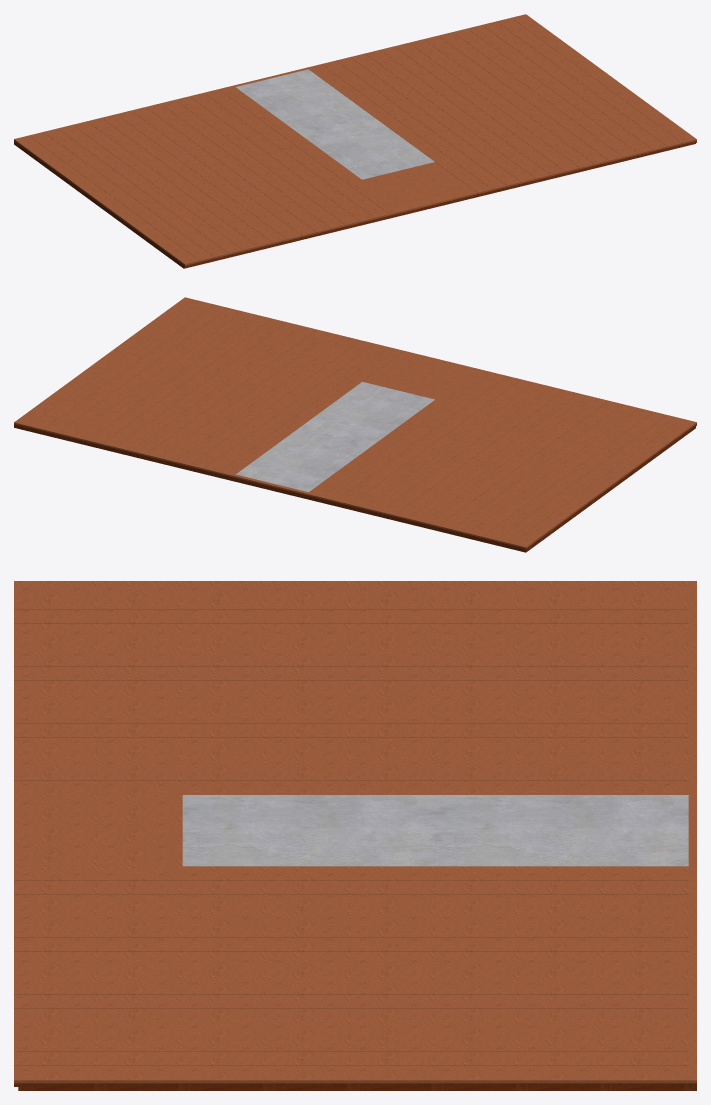
File: 04 PISOS.glb
3 renders of one model, top to bottom at view 1: azimuth 30°, elevation 25°; view 2: azimuth 150°, elevation 25°; view 3: azimuth 270°, elevation 25°, orthographic. The views are drawn at different scales.
Visible parts, largest first — view 1: LAMINAS_PISO#3 (×16), 126466, LAMINAS_PISO#6, Estructura_Piso#2 (×2), LAMINAS_PISO#5, 127382, 128298; view 2: LAMINAS_PISO#3 (×16), 126466, LAMINAS_PISO#6, LAMINAS_PISO#5, 126632, 128297, 127382, 128298; view 3: LAMINAS_PISO#3 (×16), 126466, LAMINAS_PISO#5, LAMINAS_PISO#6, 128298, 127382.
Boxes of the visible parts, box(x1,y1,x2,y2) form: LAMINAS_PISO#3 (×16): box(16, 16, 696, 265); 126466: box(236, 69, 434, 179); LAMINAS_PISO#6: box(383, 177, 477, 211); Estructura_Piso#2 (×2): box(162, 141, 696, 268); LAMINAS_PISO#5: box(362, 162, 455, 195); 127382: box(14, 85, 234, 141); 128298: box(307, 14, 527, 69); LAMINAS_PISO#3 (×16): box(16, 297, 696, 546); 126466: box(236, 381, 434, 492); LAMINAS_PISO#6: box(384, 351, 476, 383); LAMINAS_PISO#5: box(362, 366, 455, 399); 126632: box(306, 495, 527, 552); 128297: box(14, 424, 233, 481); 127382: box(306, 492, 527, 548); 128298: box(14, 421, 234, 477); LAMINAS_PISO#3 (×16): box(14, 581, 688, 1083); 126466: box(182, 795, 688, 866); LAMINAS_PISO#5: box(98, 795, 182, 866); LAMINAS_PISO#6: box(14, 795, 98, 866); 128298: box(688, 866, 696, 1083); 127382: box(688, 581, 696, 794).
Bounding box in the file's own units: 7 × 0.07 × 4.05.
508 materials, 508 textured.
